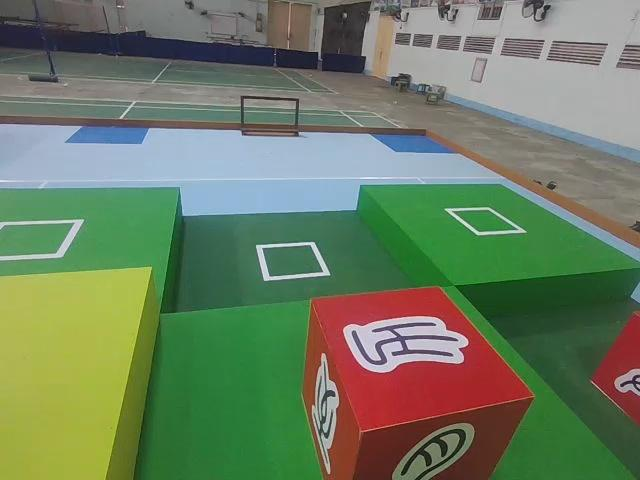R2 Fake: (299, 287, 535, 480)
